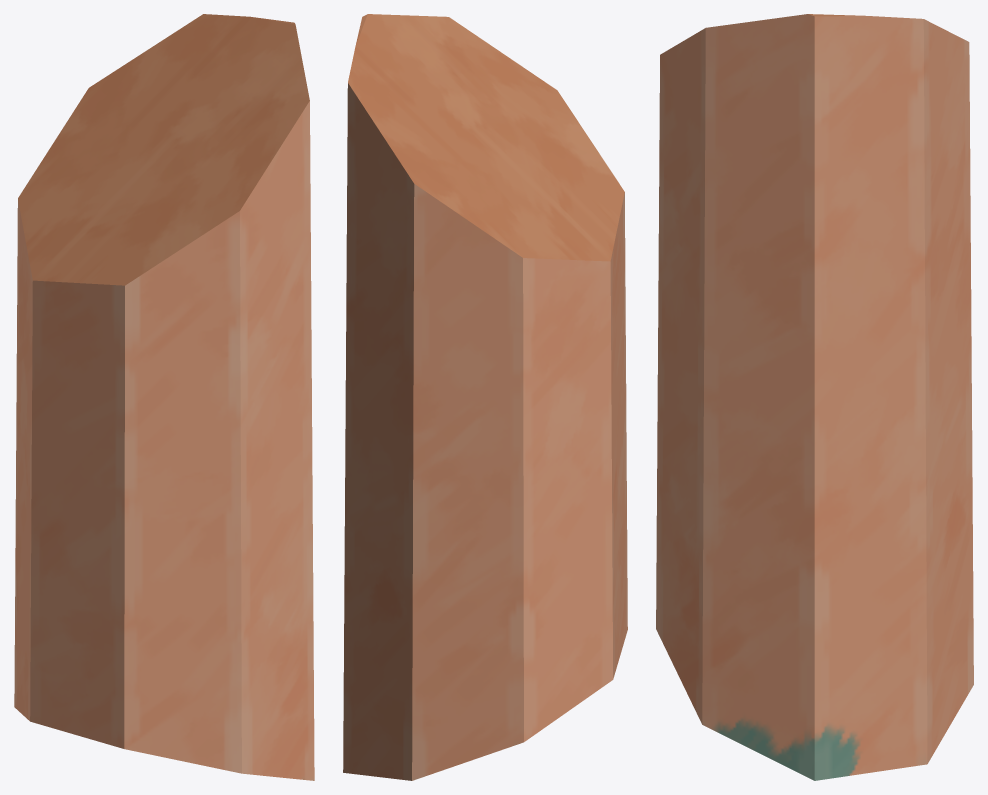
Rendered from pillar_s02.fbx.
3 views of the same model, side by side, from view 1: azimuth 30°, elevation 25°; view 2: azimuth 150°, elevation 25°; view 3: azimuth 270°, elevation 25° (orthographic). The views are drawn at different scales.
Visible parts, largest first — view 1: pillar_s02; view 2: pillar_s02; view 3: pillar_s02.
Part boxes in pixels (bbox=[...]): pillar_s02: bbox=[14, 14, 314, 780]; pillar_s02: bbox=[343, 14, 627, 780]; pillar_s02: bbox=[656, 14, 973, 780].
Bounding box in the file's own units: 1.69 × 4.49 × 1.69.
